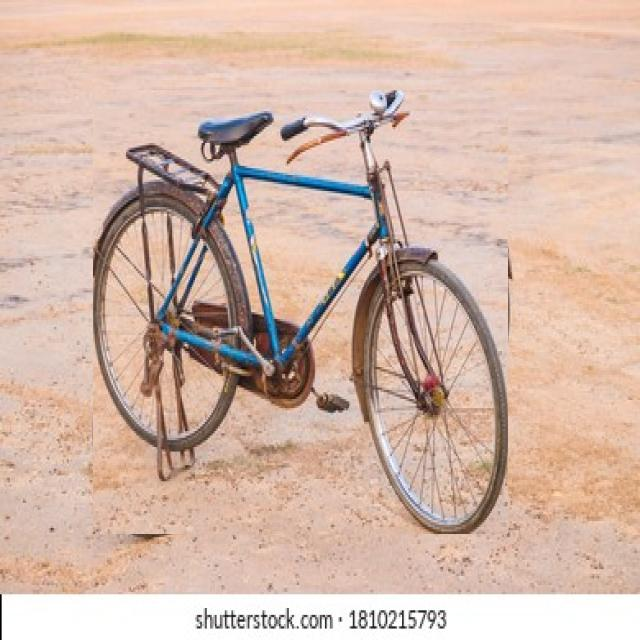bicycle: (94, 90, 508, 534)
